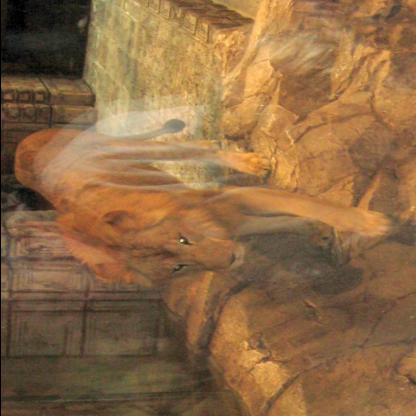lion: (100, 206, 260, 298)
